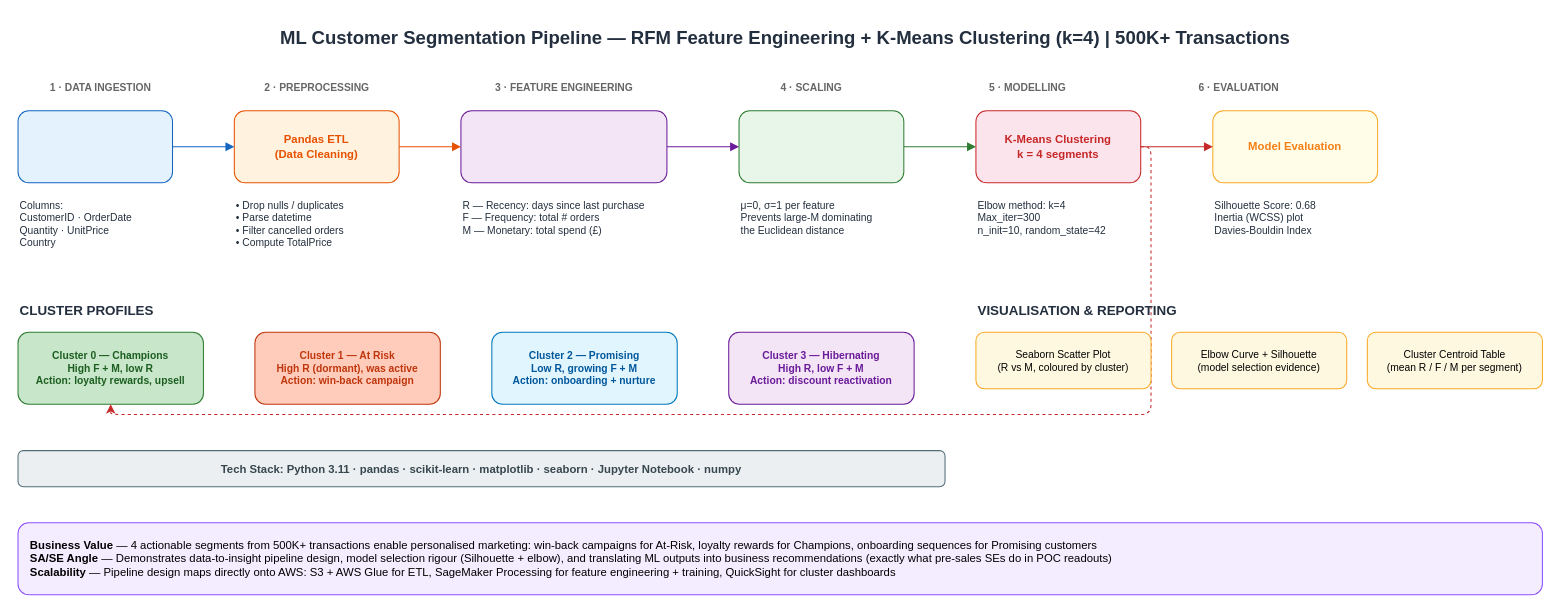
This 1560x613 diagram has some shape labels left out. The centre of each missing label's shape, as x and y in pixels:
"Raw Transaction Data CSV / Parquet (500K+ rows)" belongs at [95,146].
"RFM Feature Engineering" belongs at [563,146].
"StandardScaler (Normalisation)" belongs at [821,146].
